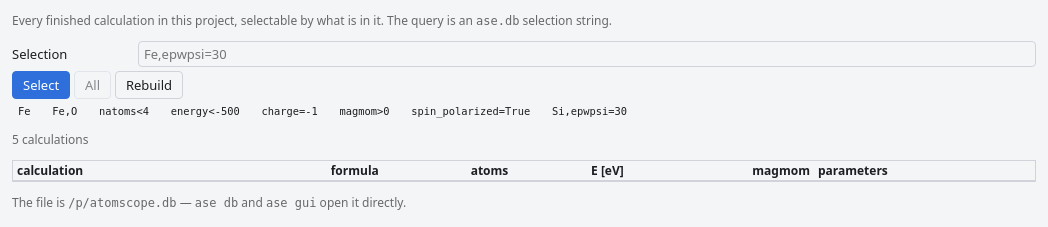
Test case: an example is a button, because the syntax is worth learning by using it
Expected: the text "5 calculations" is shown, left=12, top=131, right=88, bottom=148
Click the button titled "contains both iron and oxygen" at (65, 111), box left=46, top=103, right=83, bottom=119
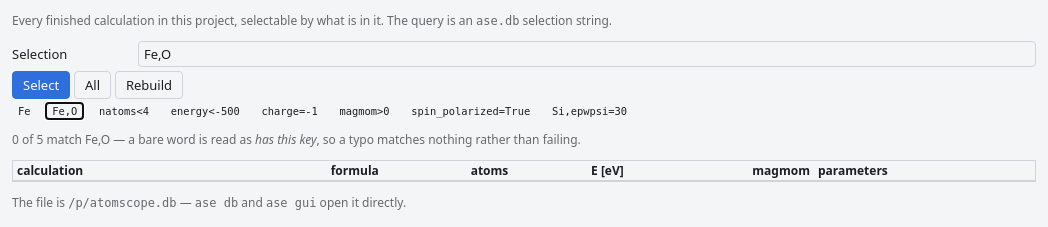
Expected: the message shows "has this key", left=255, top=131, right=317, bottom=148
